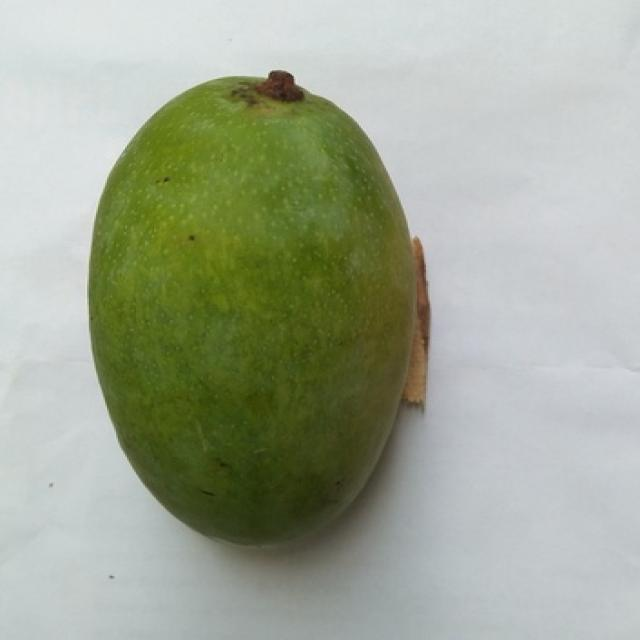Mango: (89, 77, 413, 543)
